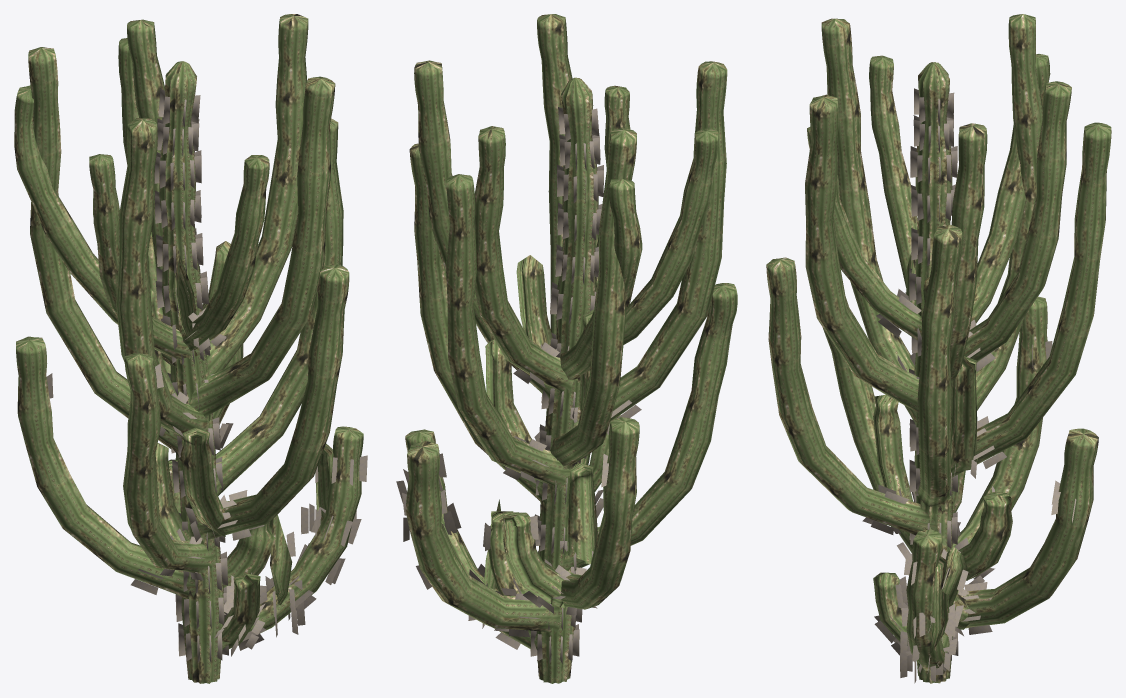
Rendered from cactus4.obj.
3 views of the same model, side by side, from view 1: azimuth 30°, elevation 25°; view 2: azimuth 150°, elevation 25°; view 3: azimuth 270°, elevation 25° (orthographic). The views are drawn at different scales.
Parts seen in each view (by area): view 1: plant07, thorns; view 2: plant07, thorns; view 3: plant07, thorns.
Boxes of the visible parts, x1,y1,x2,y2 form: plant07: (14, 14, 363, 683); thorns: (46, 88, 367, 663); plant07: (405, 14, 737, 683); thorns: (396, 107, 641, 663); plant07: (766, 14, 1111, 683); thorns: (862, 88, 1076, 683).
Bounding box in the file's own units: 151 × 307 × 158.
2 materials, 2 textured.
